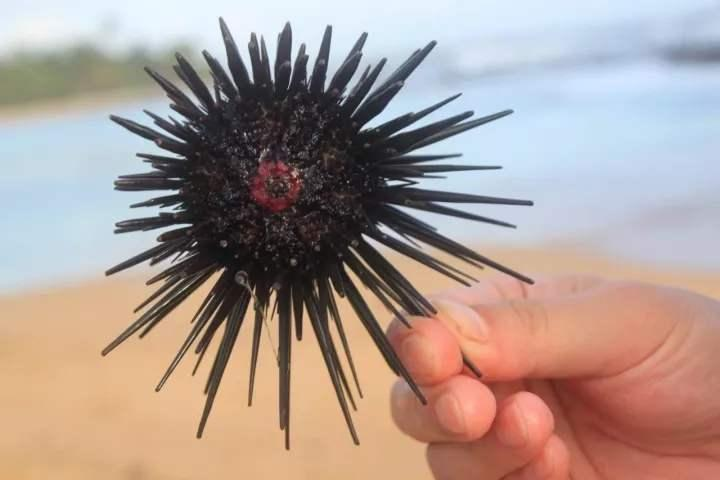urchin: (98, 13, 539, 452)
